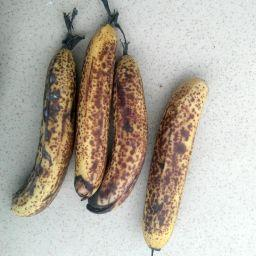banana: (7, 5, 88, 219), (84, 0, 151, 216), (140, 76, 210, 256), (72, 0, 122, 202)
